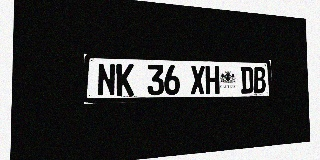3: (147, 64, 164, 95)
6: (164, 65, 180, 95)
B: (253, 67, 266, 93)
D: (240, 67, 253, 94)
H: (205, 66, 219, 94)
K: (116, 64, 134, 96)
N: (97, 63, 116, 96)
X: (190, 65, 205, 95)
